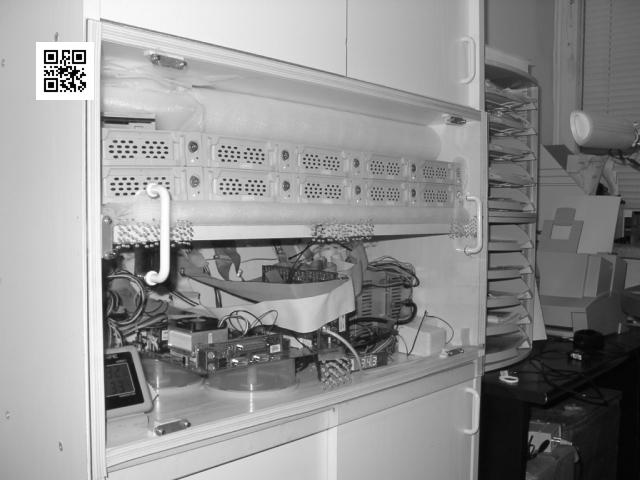qr_code: (37, 42, 92, 100)
